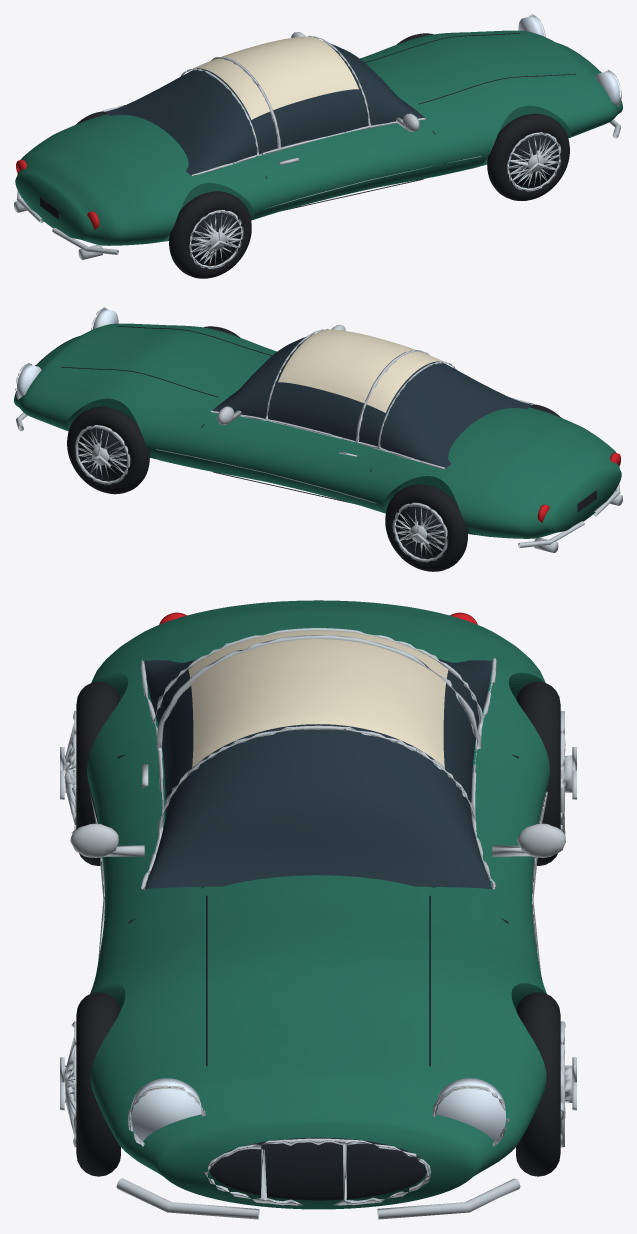
File: riv1.glb
The picture shows the model from 3 angles, top to bottom: view 1: azimuth 30°, elevation 25°; view 2: azimuth 150°, elevation 25°; view 3: azimuth 270°, elevation 25°; orthographic projection. The views are drawn at different scales.
Visible parts, largest first — view 1: 轎跑_1; view 2: 轎跑_1; view 3: 轎跑_1.
Part boxes in pixels (<box>): 轎跑_1: <box>14,14,622,278</box>; 轎跑_1: <box>14,307,622,571</box>; 轎跑_1: <box>60,600,576,1219</box>.
Size of the model in its own units: 5.04 by 1.38 by 2.08.
